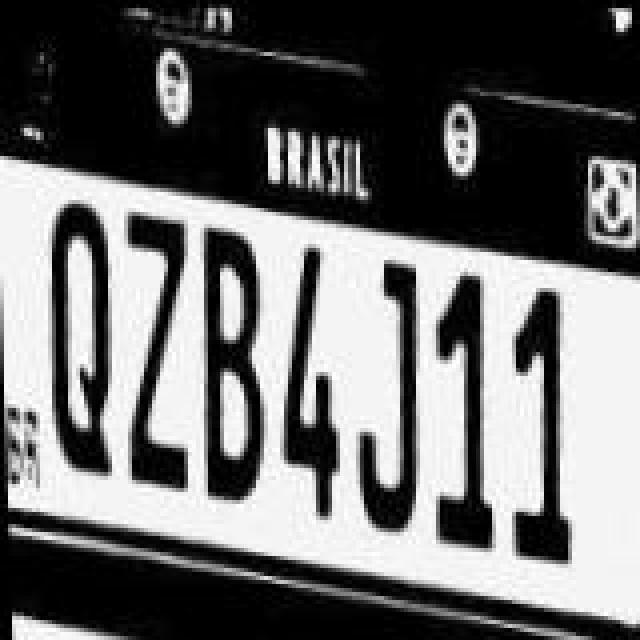1: (502, 280, 578, 564), (424, 274, 492, 546)
4: (272, 238, 356, 522)
B: (194, 224, 274, 500)
J: (348, 256, 424, 532)
Q: (40, 200, 120, 472)
Z: (120, 210, 192, 486)
